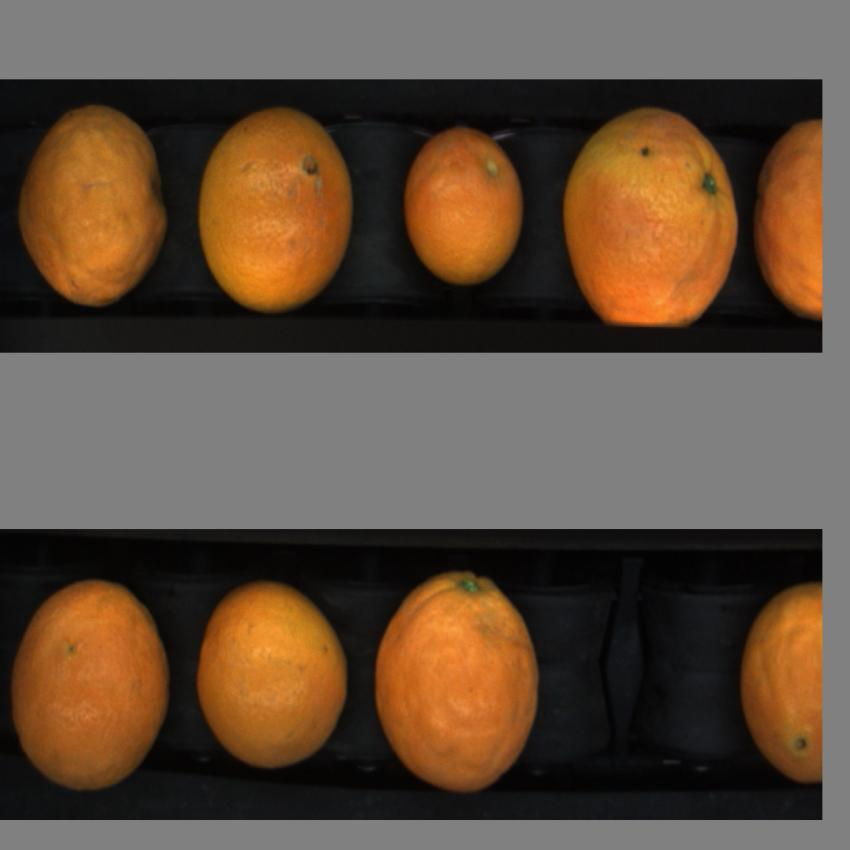Buen estado: (369, 560, 554, 795), (558, 108, 740, 332), (9, 572, 176, 796), (197, 107, 356, 315), (196, 576, 352, 768), (400, 115, 530, 286), (738, 572, 822, 785)
Mal estado: (17, 102, 171, 302), (751, 112, 823, 321)
